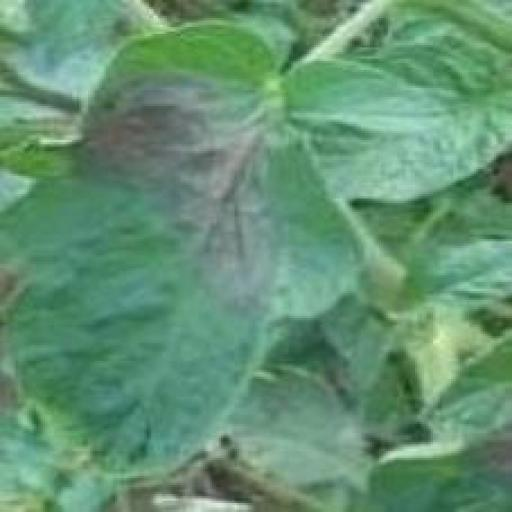Late Blight: (0, 19, 453, 487)
